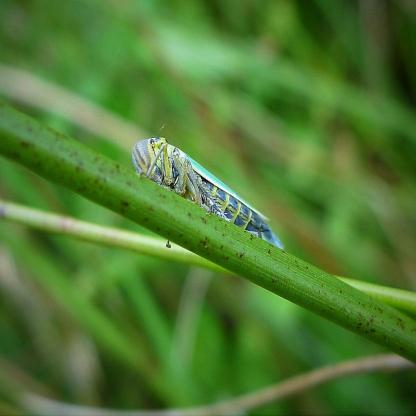Green-Leafhopper: (133, 132, 300, 262)
